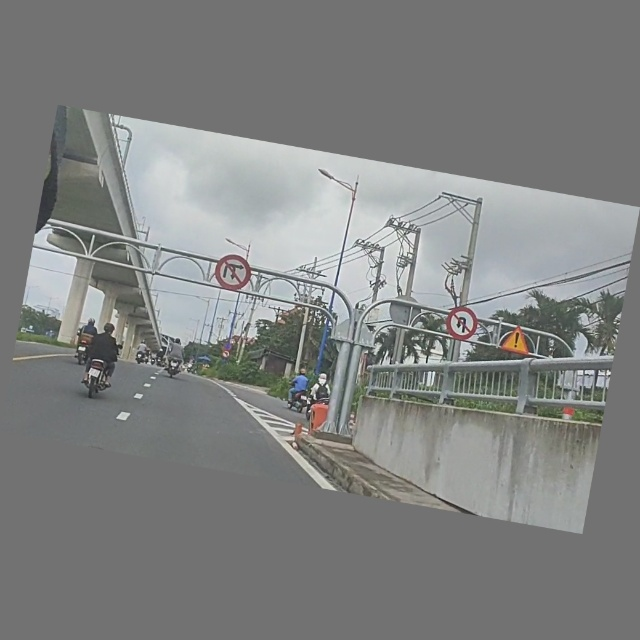P.123a: (220, 351, 231, 360)
P.124a*: (444, 305, 481, 343)
P.124d: (212, 253, 254, 295)
P.130: (223, 342, 234, 352)
W.233: (501, 323, 536, 357)
